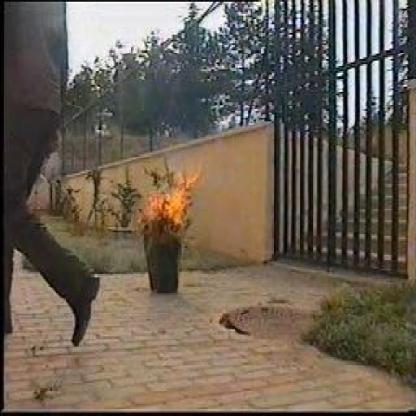-: (143, 63, 200, 157)
foggia-v2-map80-epoch100 - v1 4323: (133, 161, 205, 234)
